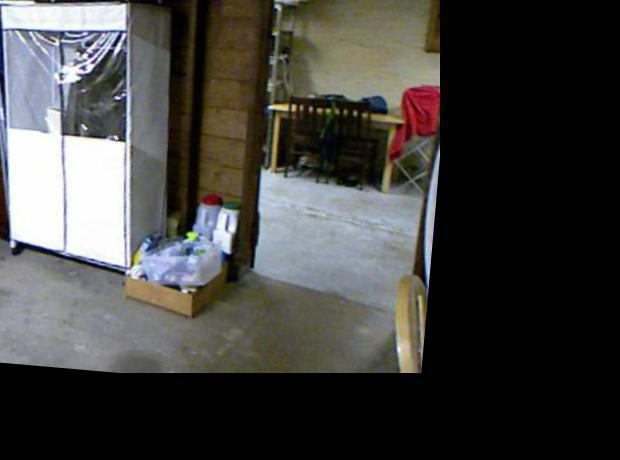Armario: (0, 1, 185, 286)
Otro Obstaculo: (119, 187, 247, 327)
